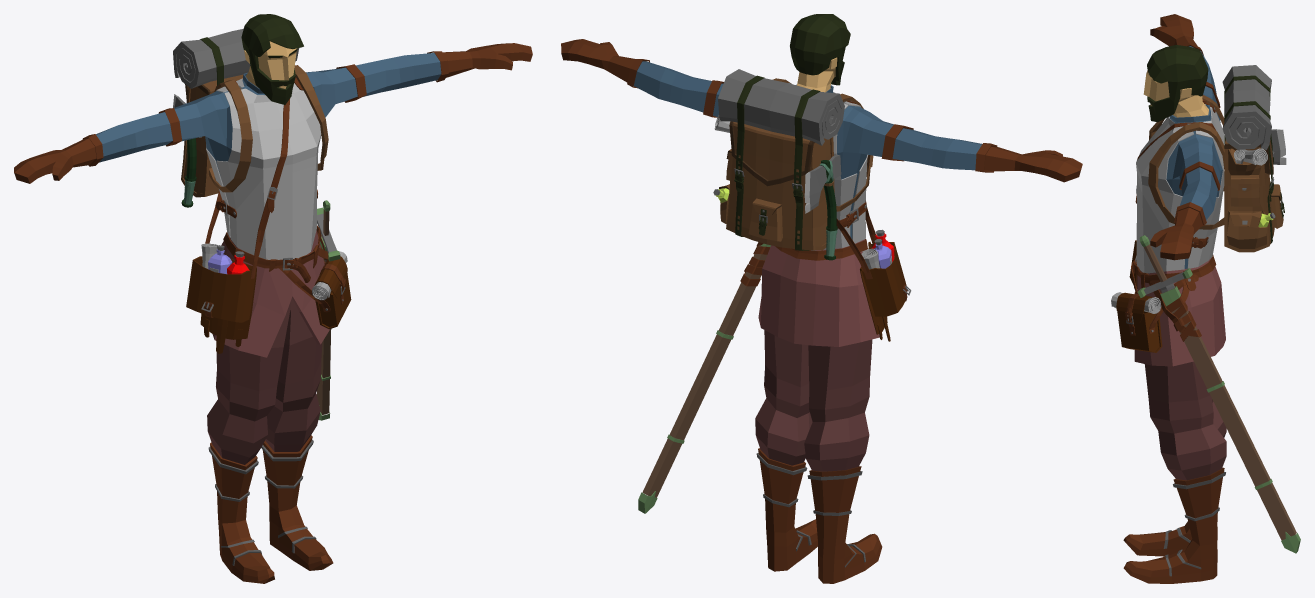
The model's file is arm_guy.glb.
3 renders of one model, left to right at view 1: azimuth 30°, elevation 25°; view 2: azimuth 150°, elevation 25°; view 3: azimuth 270°, elevation 25°, orthographic. The views are drawn at different scales.
Parts seen in each view (by area): view 1: MainMesh, Backpack.001, Shoulder bag, Hair/Beard, Belt bag, Belt, Sword-Sheet, Sword; view 2: MainMesh, Backpack.001, Sword-Sheet, Shoulder bag, Hair/Beard, Belt; view 3: MainMesh, Backpack.001, Sword-Sheet, Hair/Beard, Belt bag, Belt, Sword, Shoulder bag.
Boxes of the visible parts, x1,y1,x2,y2 form: MainMesh: (14, 41, 532, 583); Backpack.001: (173, 29, 328, 207); Shoulder bag: (186, 99, 289, 353); Hair/Beard: (241, 14, 303, 104); Belt bag: (269, 233, 351, 329); Belt: (223, 225, 328, 282); Sword-Sheet: (316, 234, 331, 420); Sword: (317, 200, 340, 261); MainMesh: (561, 39, 1082, 583); Backpack.001: (713, 69, 873, 260); Sword-Sheet: (638, 243, 770, 513); Shoulder bag: (836, 200, 911, 341); Hair/Beard: (790, 14, 850, 85); Belt: (740, 239, 867, 286); MainMesh: (1123, 14, 1226, 583); Backpack.001: (1148, 65, 1286, 252); Sword-Sheet: (1160, 286, 1300, 553); Hair/Beard: (1147, 45, 1208, 122); Belt bag: (1111, 274, 1198, 352); Belt: (1131, 255, 1216, 341); Sword: (1137, 235, 1192, 297); Shoulder bag: (1129, 122, 1224, 289).
Size of the model in its own units: 1.77 by 1.78 by 0.5922.
1 material, 1 textured.
